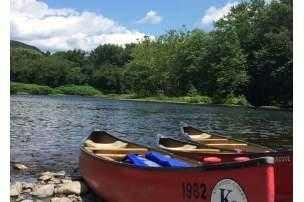kayak: (79, 128, 292, 200)
